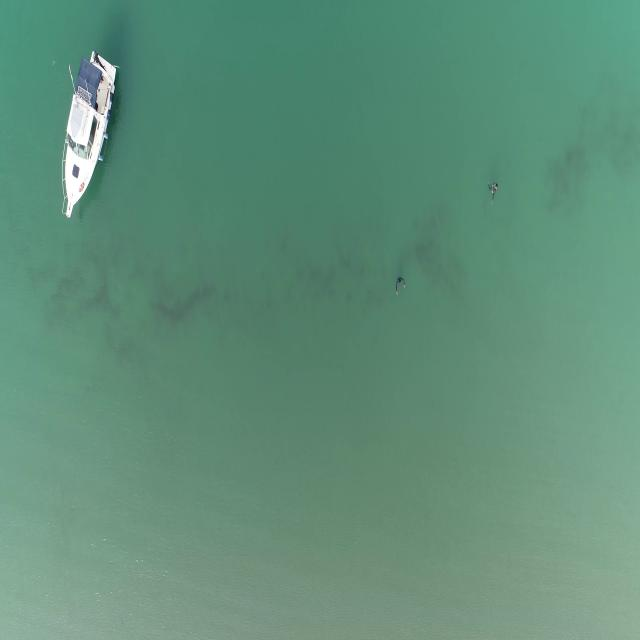boat: (58, 47, 119, 220)
person: (488, 177, 500, 205), (393, 275, 407, 298)
